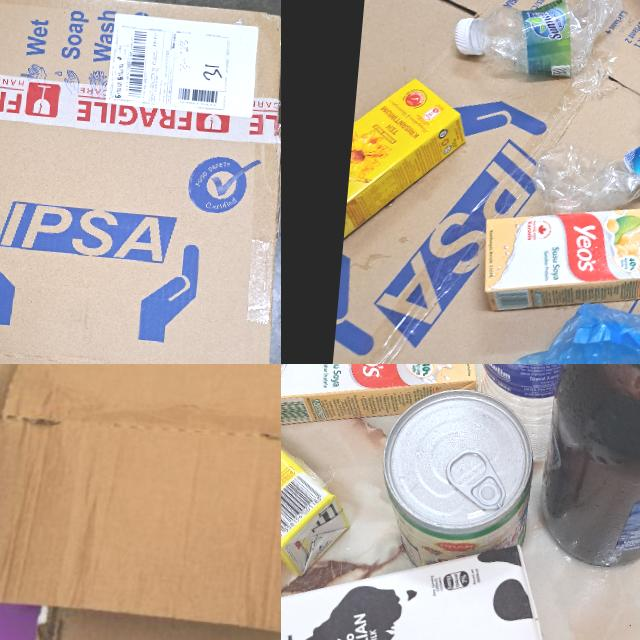aba de lata: (442, 446, 509, 510)
caixinha: (281, 517, 570, 640), (342, 74, 470, 258), (481, 191, 640, 325), (281, 364, 483, 444), (281, 395, 361, 580)
garrafa de vidro: (530, 364, 640, 579)
garrafa plástica: (532, 57, 640, 215), (459, 364, 609, 463), (452, 0, 625, 82)
lata: (372, 382, 539, 576)
papelão: (329, 0, 640, 364), (0, 0, 281, 364), (0, 364, 281, 640)
sacola plástica: (453, 287, 640, 364)
tampa plástica: (450, 15, 482, 58)
